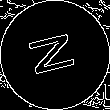N_E: (26, 30, 84, 80)
